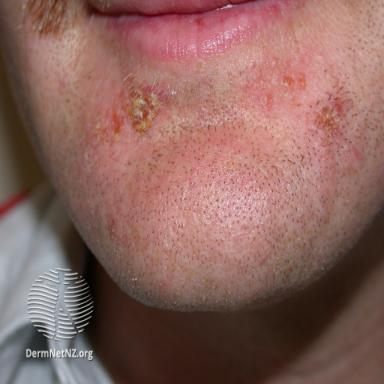Impetigo: (81, 79, 166, 175), (258, 68, 306, 113), (312, 88, 353, 138)
